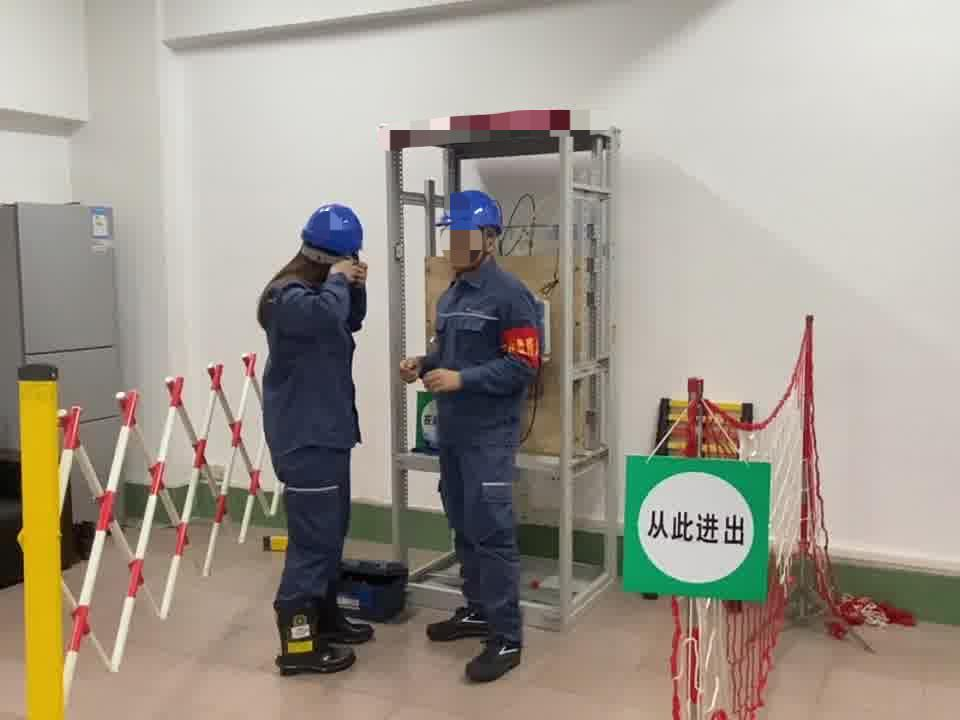halt: (440, 191, 508, 270)
inear: (477, 228, 503, 264)
